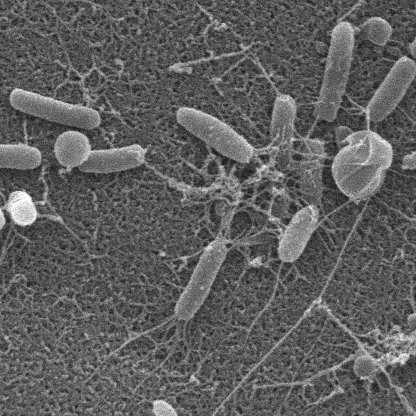cell2cell: (191, 208, 366, 416), (322, 203, 416, 416), (311, 189, 368, 231), (336, 0, 411, 23), (345, 0, 409, 23), (300, 115, 322, 153), (364, 108, 377, 171), (254, 139, 280, 155)
cell2surface: (138, 158, 239, 203), (98, 314, 182, 365), (250, 258, 279, 330), (248, 49, 284, 98), (22, 123, 32, 149)
filament: (152, 401, 232, 416), (402, 105, 416, 171)
regular: (175, 105, 259, 169), (9, 89, 102, 133), (175, 240, 225, 319), (318, 19, 354, 119), (366, 58, 416, 115), (277, 206, 316, 264), (273, 92, 297, 183), (84, 149, 138, 174), (9, 192, 39, 230), (54, 133, 89, 164), (0, 146, 41, 172), (0, 165, 7, 231), (414, 0, 416, 58)
